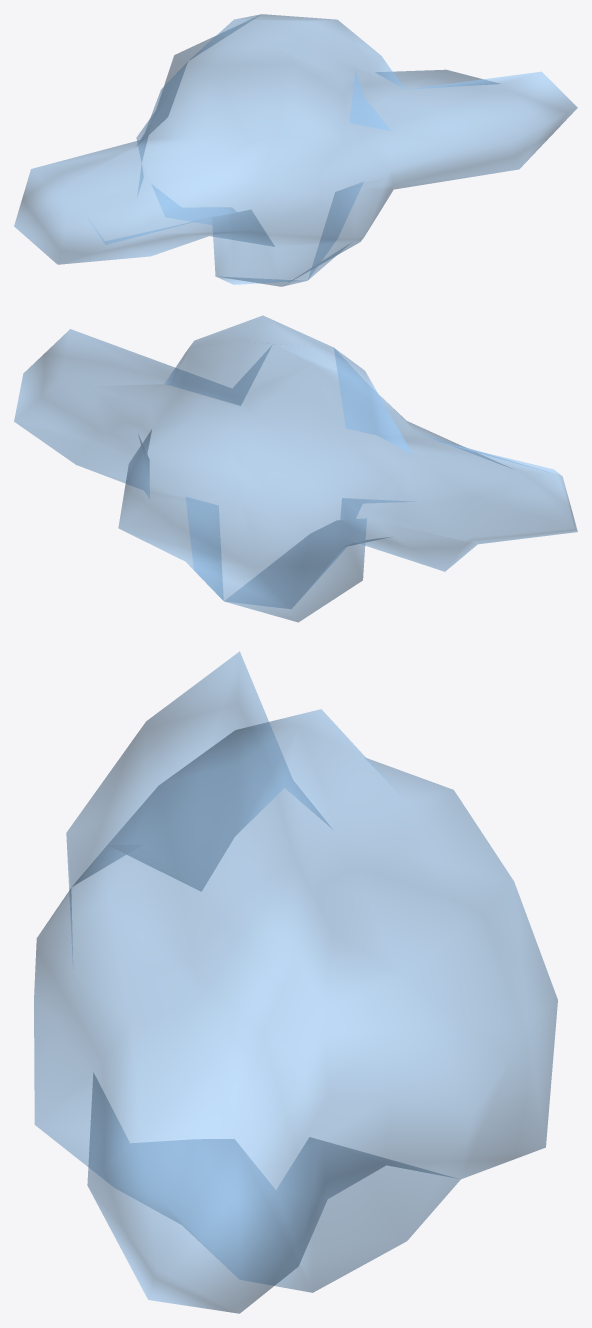
The model's file is thull_shield.gltf.
The picture shows the model from 3 angles, top to bottom: view 1: azimuth 30°, elevation 25°; view 2: azimuth 150°, elevation 25°; view 3: azimuth 270°, elevation 25°; orthographic projection. The views are drawn at different scales.
Visible parts, largest first — view 1: thull.shield; view 2: thull.shield; view 3: thull.shield.
Part boxes in pixels (<box>): thull.shield: <box>14,14,577,286</box>; thull.shield: <box>14,315,577,622</box>; thull.shield: <box>34,651,557,1313</box>.
Size of the model in its own units: 22.49 by 10.48 by 9.38.
